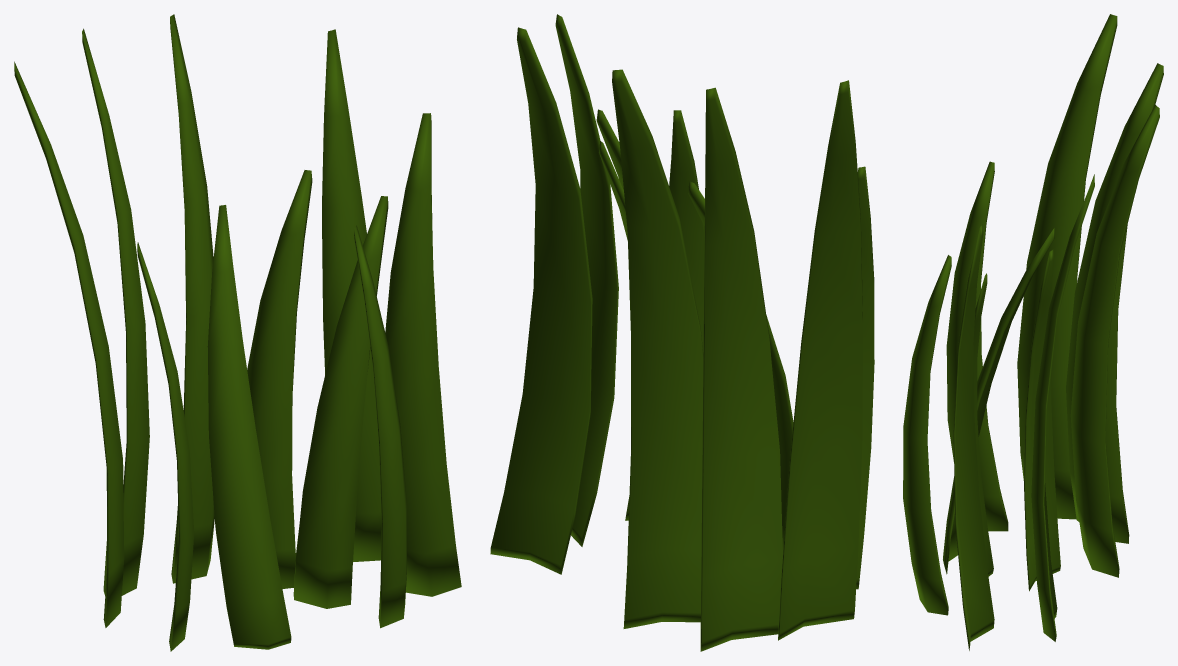
The model's file is grass.obj.
3 views of the same model, side by side, from view 1: azimuth 30°, elevation 25°; view 2: azimuth 150°, elevation 25°; view 3: azimuth 270°, elevation 25° (orthographic). The views are drawn at different scales.
Visible parts, largest first — view 1: Plane.008; view 2: Plane.008; view 3: Plane.008.
Boxes of the visible parts, x1,y1,x2,y2 form: Plane.008: (14, 14, 461, 651); Plane.008: (490, 14, 874, 651); Plane.008: (903, 14, 1163, 650).
Size of the model in its own units: 2.63 by 3.81 by 1.86.
